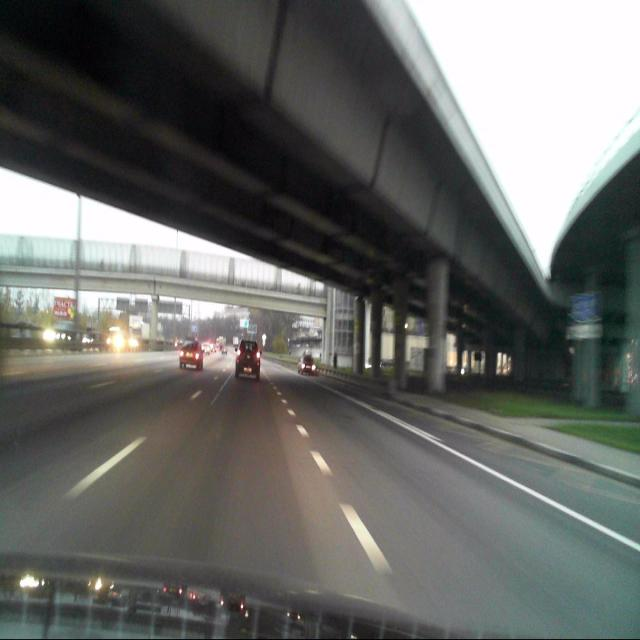road sign: (584, 292, 602, 323)
